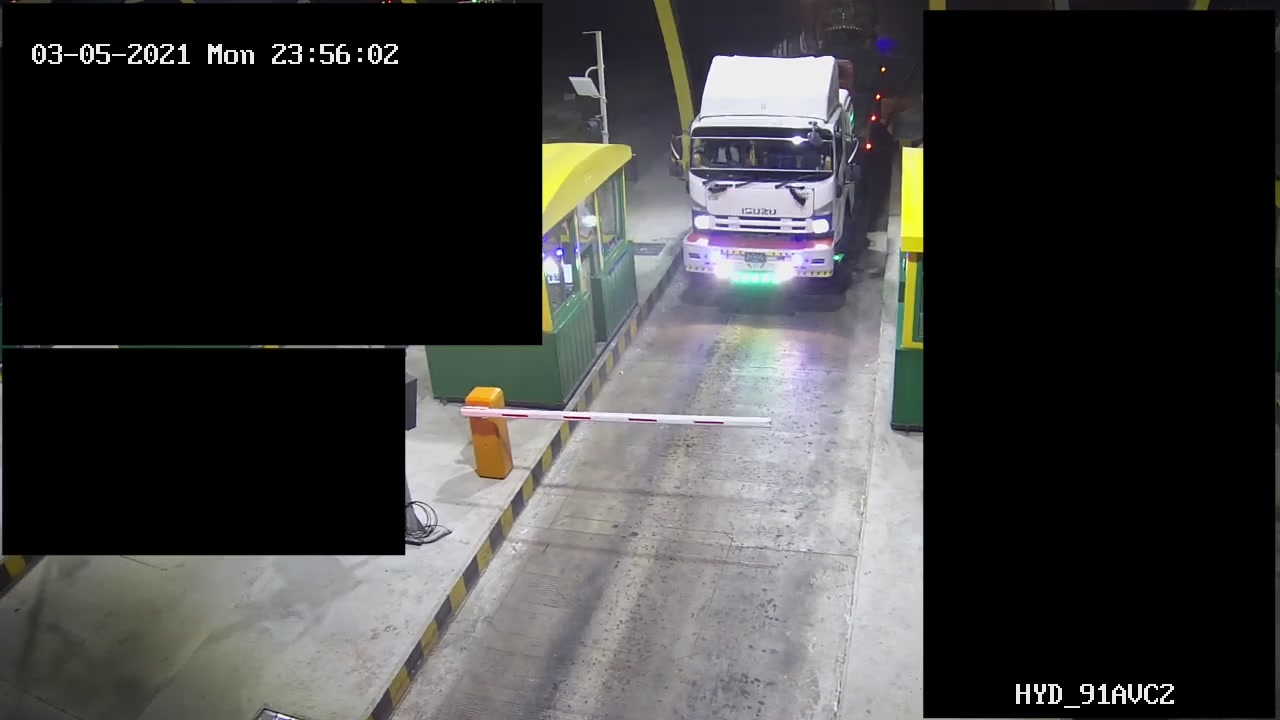F6: (673, 28, 892, 298)
